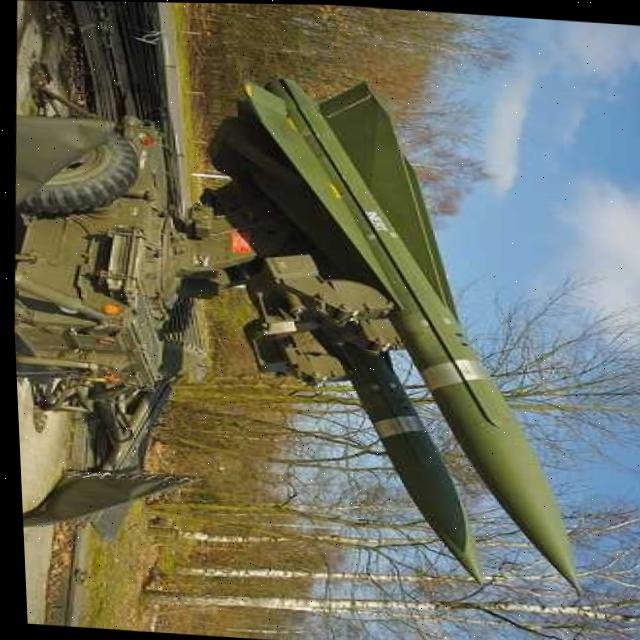missile: (202, 76, 607, 593), (243, 262, 496, 588)
